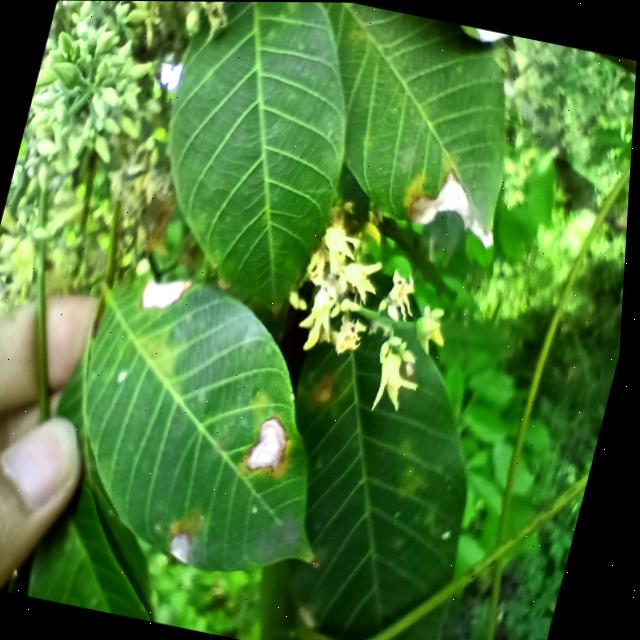Leaf-Blight: (405, 165, 510, 247), (249, 415, 296, 474), (141, 271, 193, 316), (173, 530, 201, 562)
